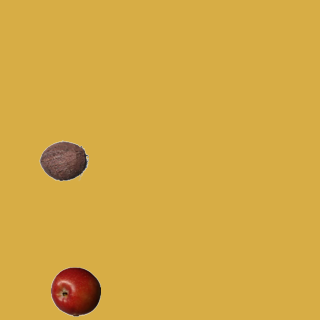Apple Braeburn: (50, 266, 100, 316)
Cocos: (38, 135, 88, 185)
